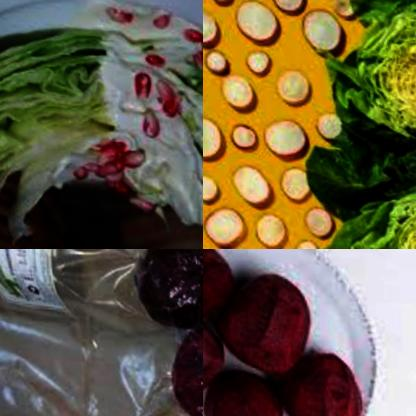beans: (73, 132, 150, 198), (126, 70, 179, 139), (183, 19, 203, 72), (108, 5, 136, 33), (142, 50, 167, 75), (149, 7, 170, 30)
beet: (221, 264, 308, 370), (272, 345, 368, 416), (124, 249, 203, 332), (154, 309, 203, 416), (203, 361, 280, 416), (203, 249, 239, 321), (203, 311, 223, 391)
salad: (0, 28, 112, 216), (310, 0, 416, 144), (315, 110, 416, 192), (316, 178, 416, 249)
